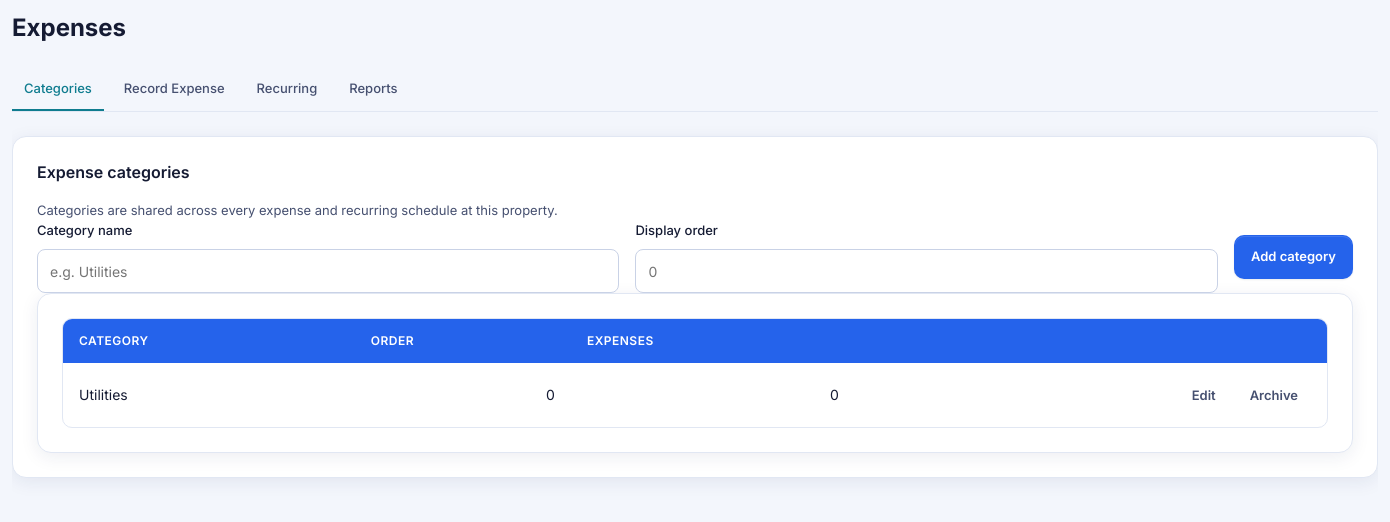
Test: ExpensesScreen › defaults to the Categories tab and switches between tabs
Expected: the text "Utilities" is shown, 63,363 -> 355,427
Click the tab "Record Expense".
click(174, 89)  # box 112,67 -> 236,111
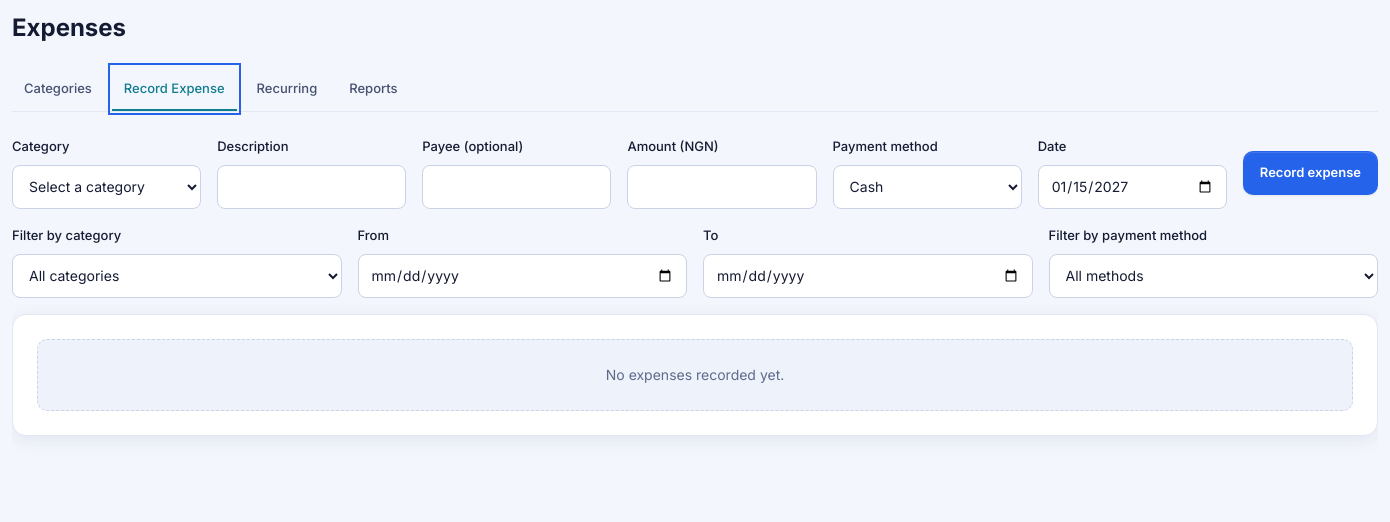
Now the button "Record expense" is shown, box 1243,151 -> 1378,195
Click the tab "Recurring".
click(287, 89)  # box 244,67 -> 329,111
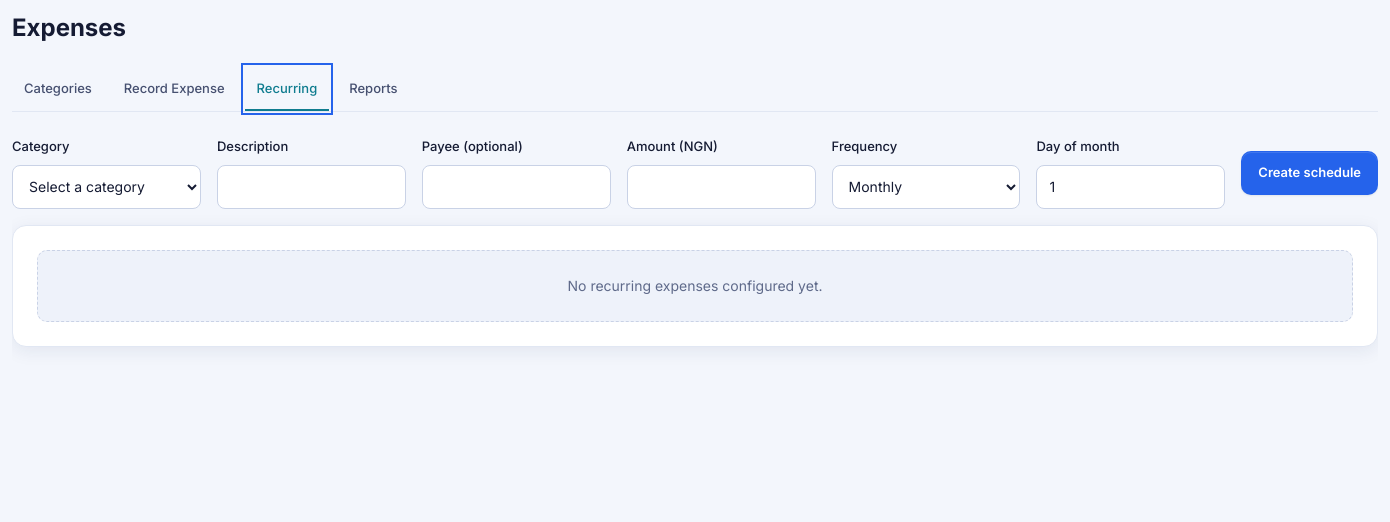
Now the button "Create schedule" is shown, box 1241,151 -> 1378,195
Click the tab "Reports".
click(373, 89)  # box 337,67 -> 410,111
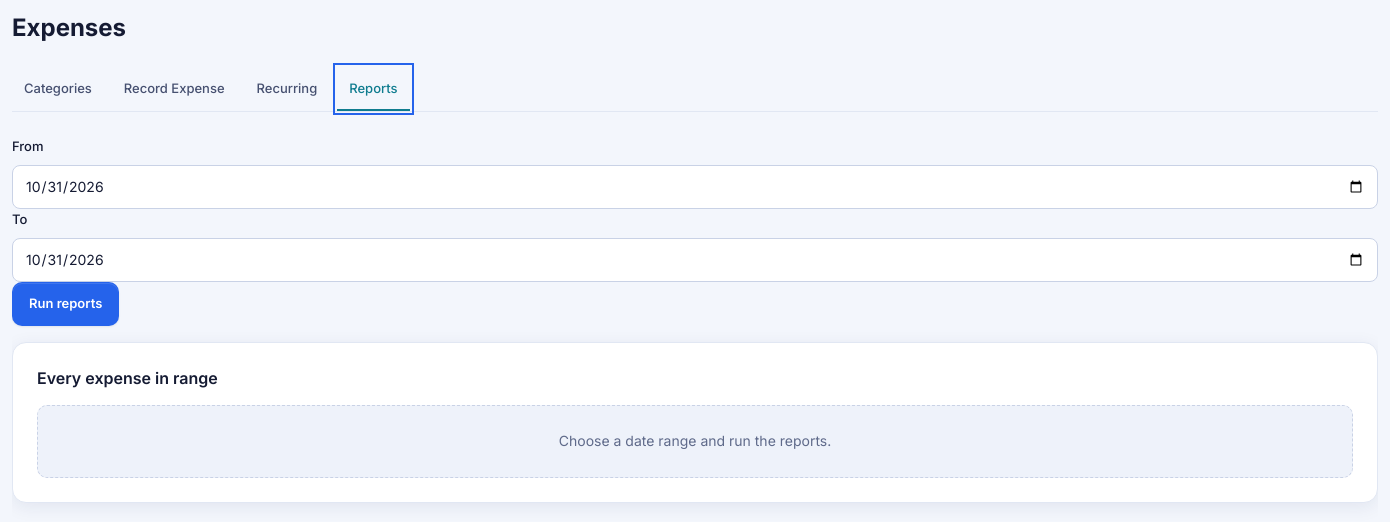
Now the button "Run reports" is shown, box 12,282 -> 119,326
